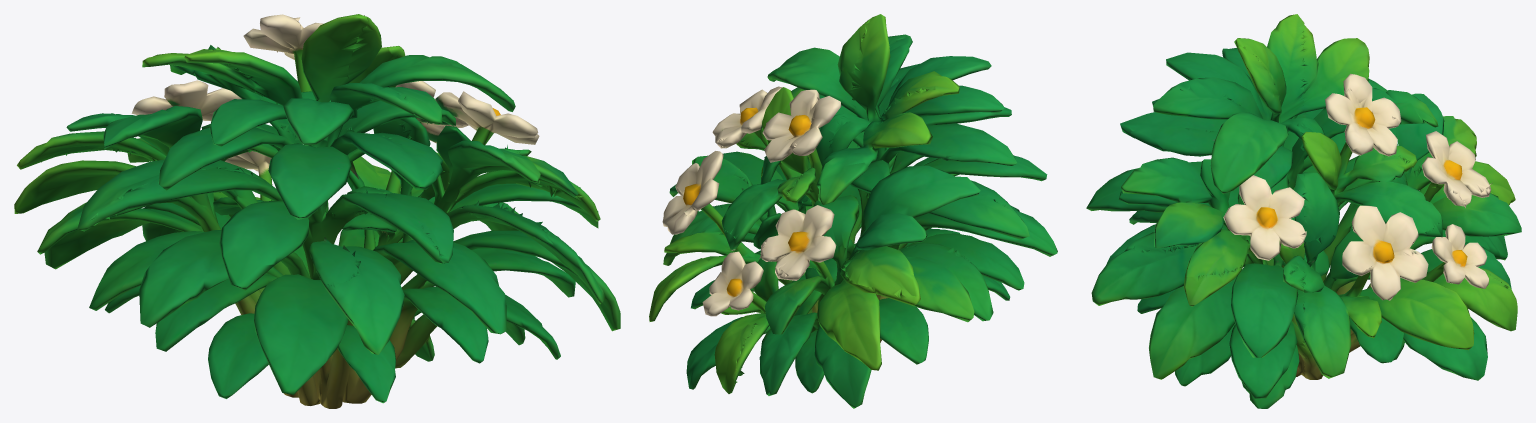
File: texture.glb
The picture shows the model from 3 angles, left to right: view 1: azimuth 30°, elevation 25°; view 2: azimuth 150°, elevation 25°; view 3: azimuth 270°, elevation 25°; orthographic projection. The views are drawn at different scales.
Visible parts, largest first — view 1: tripo_node_1bf24f85-bc24-44a5-b9d8-a75fb9977e6f; view 2: tripo_node_1bf24f85-bc24-44a5-b9d8-a75fb9977e6f; view 3: tripo_node_1bf24f85-bc24-44a5-b9d8-a75fb9977e6f.
Boxes of the visible parts, x1=… form: tripo_node_1bf24f85-bc24-44a5-b9d8-a75fb9977e6f: x1=14, y1=14, x2=620, y2=408; tripo_node_1bf24f85-bc24-44a5-b9d8-a75fb9977e6f: x1=649, y1=14, x2=1057, y2=408; tripo_node_1bf24f85-bc24-44a5-b9d8-a75fb9977e6f: x1=1086, y1=14, x2=1521, y2=408.
Size of the model in its own units: 0.9849 by 0.7898 by 0.962.
Materials: 1 (1 with a texture image).
